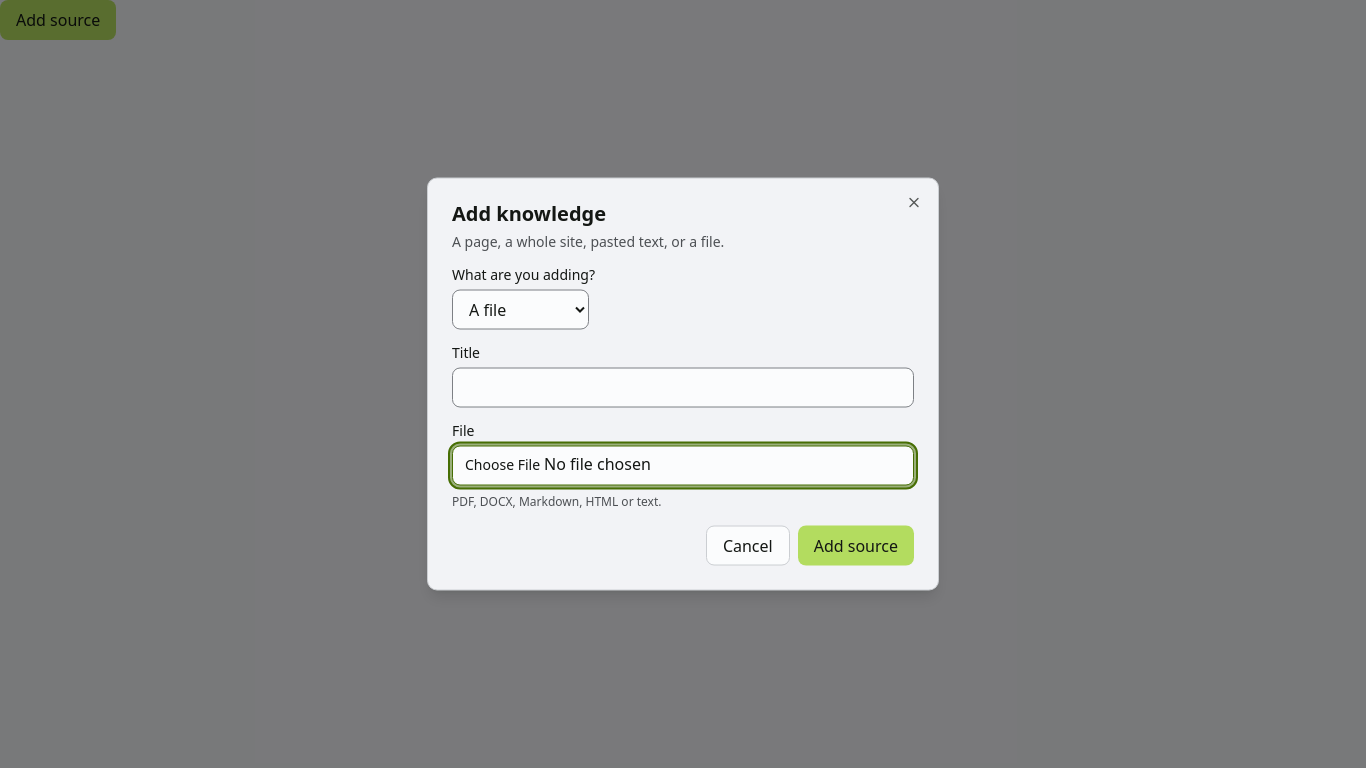
Test case: add source dialog › rejects a file over the upload limit before sending
Earlier steps of the test are not shown.
Click the button "Add source" at (856, 546), box [798,526,914,566]
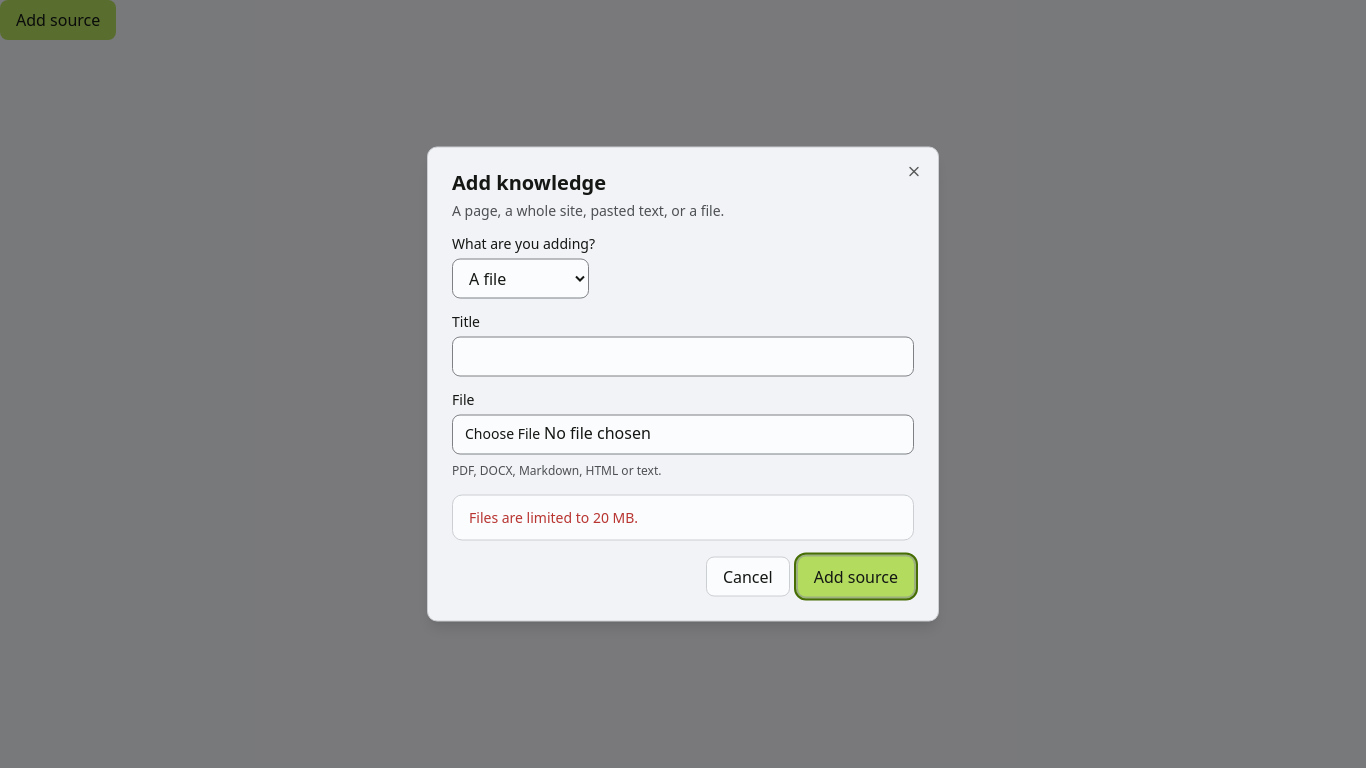
Check: the text "Files are limited to 20 MB." is shown, box [469,508,638,526]
